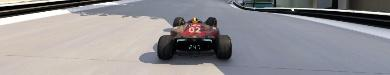Car: (156, 16, 232, 60)
